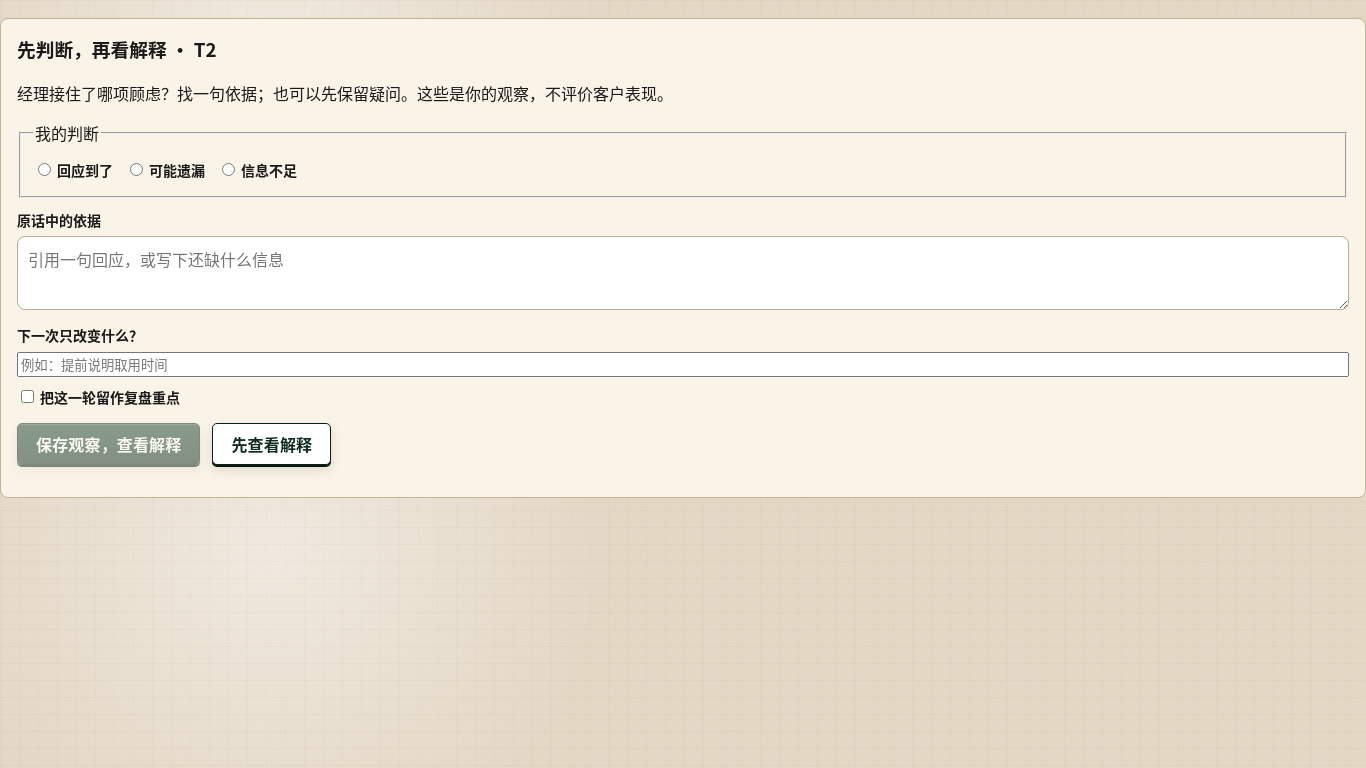
完整的玩家判断与分支操作 › 保存失败保留判断与证据，不揭示成已经保存
The width and height of the screenshot is (1366, 768).
Type "我自己的依据" into the text box labelled "原话中的依据" at x=683, y=273, box [17,236,1349,310]
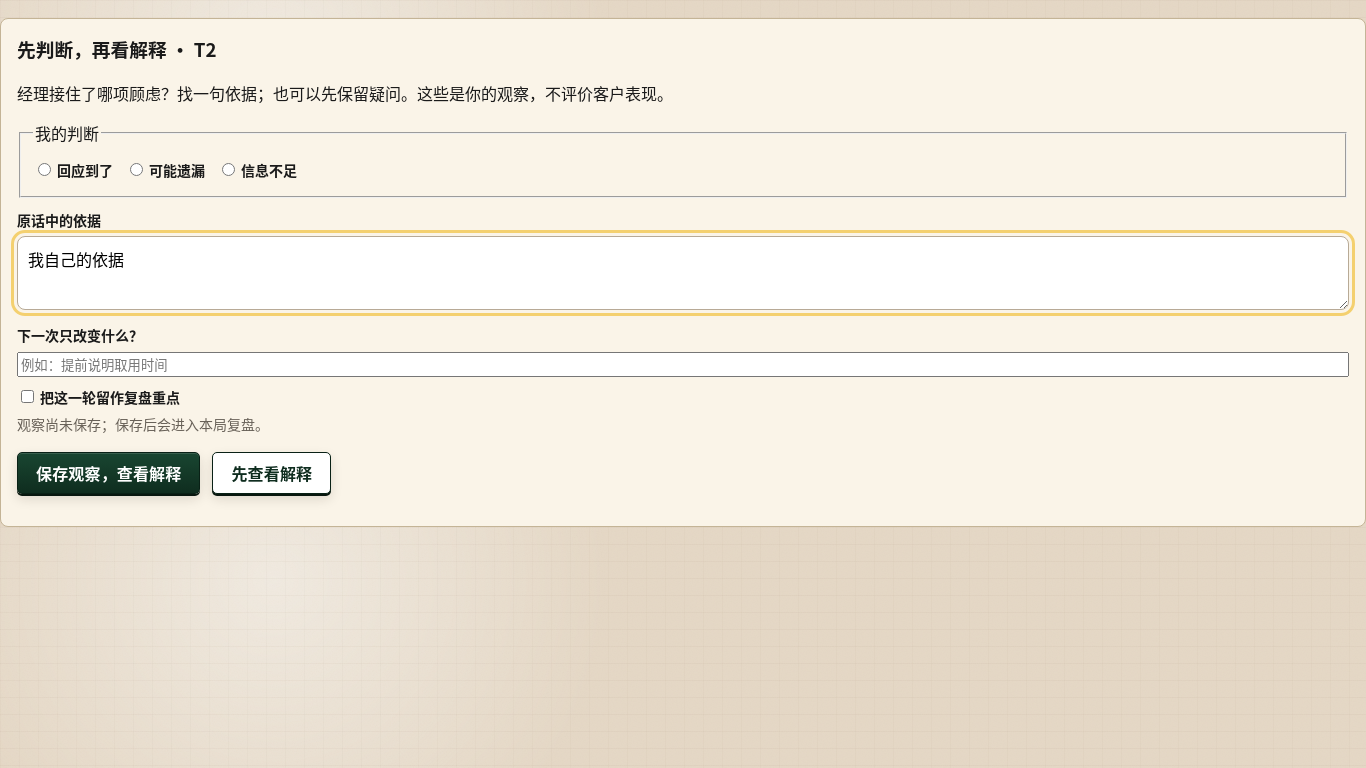
Click the button "保存观察，查看解释" at x=109, y=473, box [17,452,200,494]
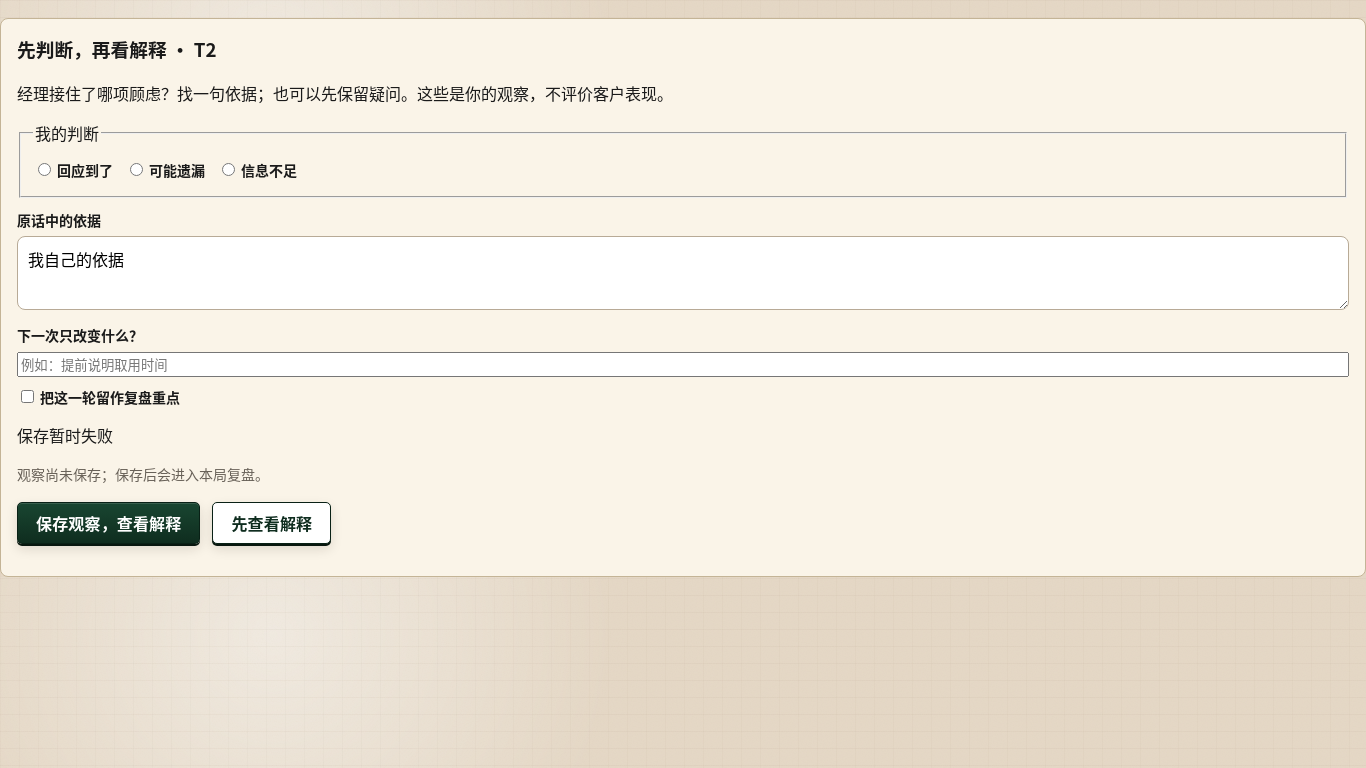
expect the message reads "保存暂时失败": met, box [17,422,113,446]
